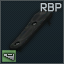Magpul MOE Carbine stock series Rubber Butt-Pad: (0, 0, 64, 64)
